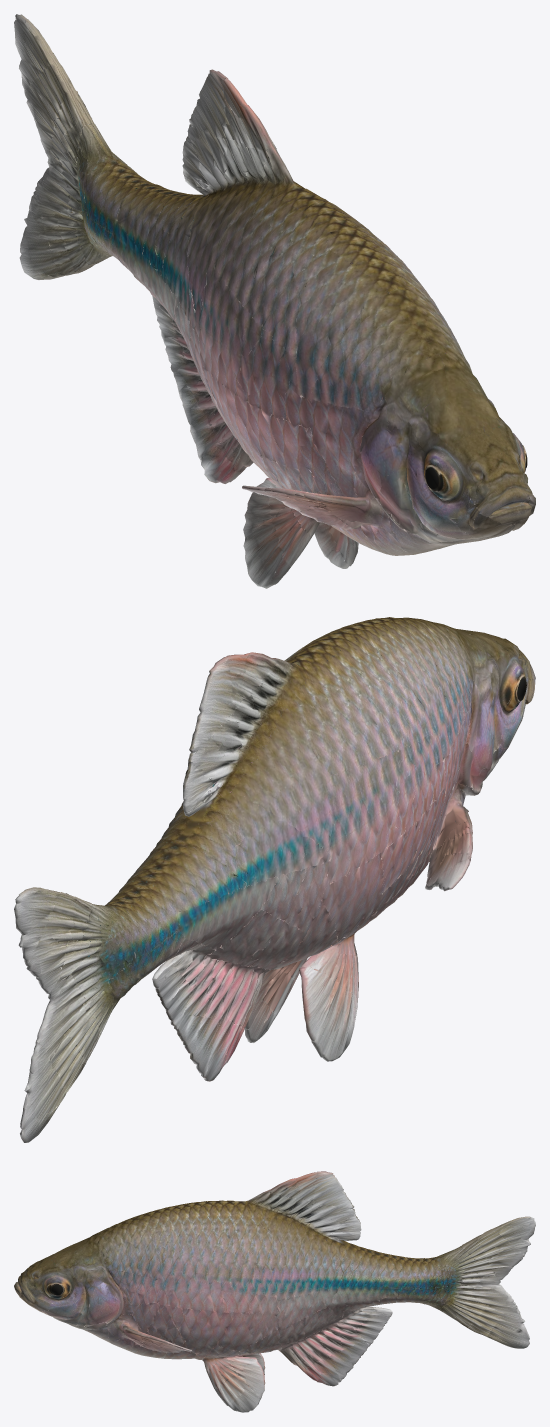
Rendered from rozanka.glb.
3 renders of one model, top to bottom at view 1: azimuth 30°, elevation 25°; view 2: azimuth 150°, elevation 25°; view 3: azimuth 270°, elevation 25°, orthographic. The views are drawn at different scales.
Parts seen in each view (by area): view 1: Mesh_0; view 2: Mesh_0; view 3: Mesh_0.
Part boxes in pixels (bbox=[...]): Mesh_0: bbox=[14, 14, 535, 588]; Mesh_0: bbox=[14, 617, 535, 1142]; Mesh_0: bbox=[14, 1171, 535, 1412].
Bounding box in the file's own units: 0.4704 × 0.929 × 1.9.
1 material, 1 textured.
